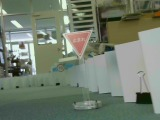stop: (62, 28, 94, 59)
